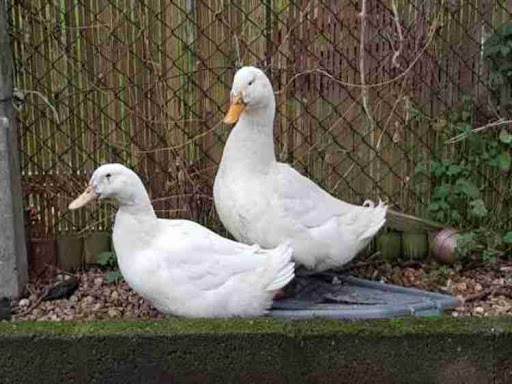Mencari Makan di Lumpur: (60, 183, 102, 213), (217, 93, 250, 130)
